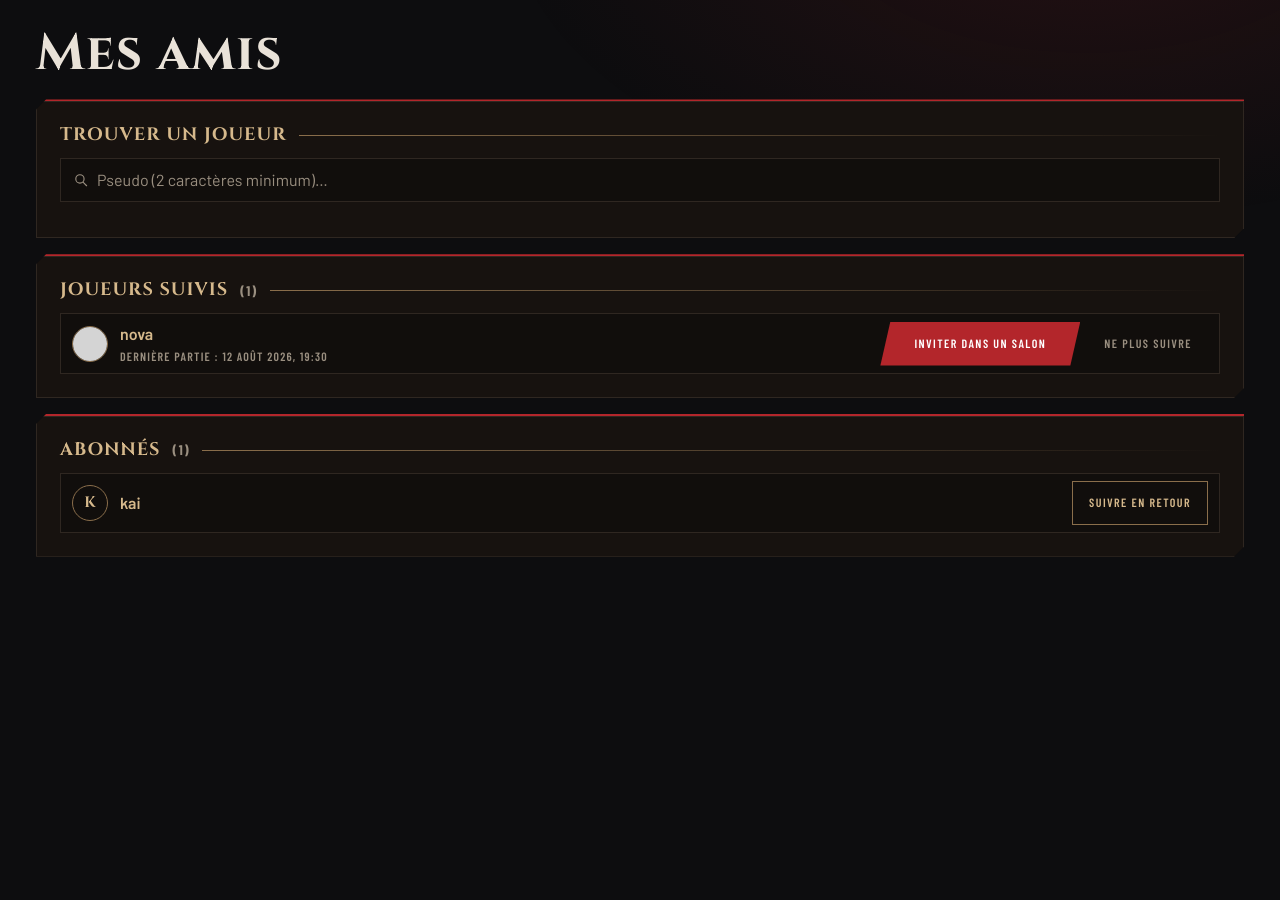
Test: FriendsView › invite un suivi : crée un salon de duel, affiche le code et copie le lien
The image size is (1280, 900).
Click the button "Inviter dans un salon".
click(980, 344)  # box [880, 322, 1080, 366]
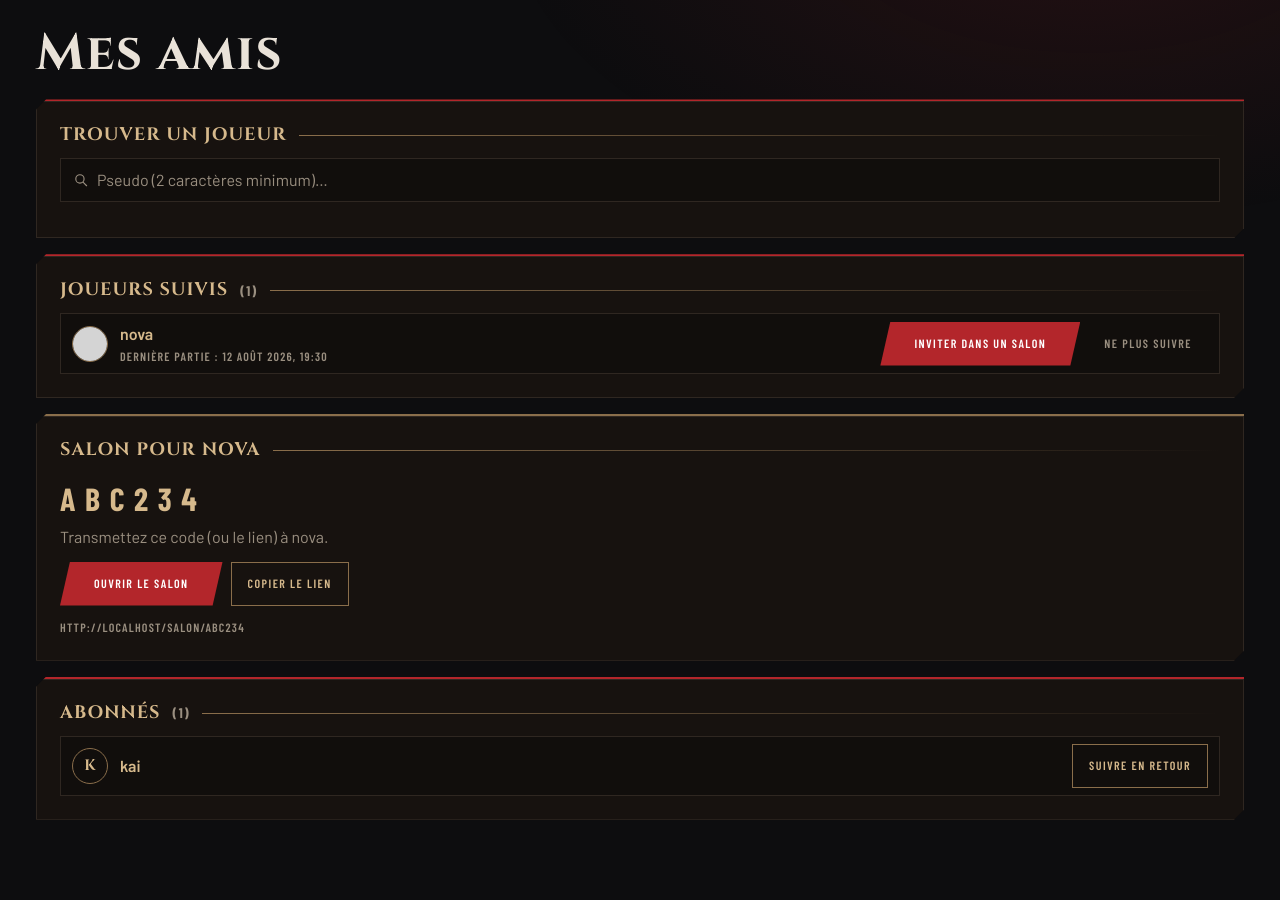
Result: the element with class "amis-invite" shows "Salon pour nova" at [60, 437, 260, 462]
Result: the text with class "amis-invite-code" reads "ABC234" at [60, 479, 206, 517]
Click the button "Copier le lien".
click(290, 584)  # box [231, 562, 349, 606]
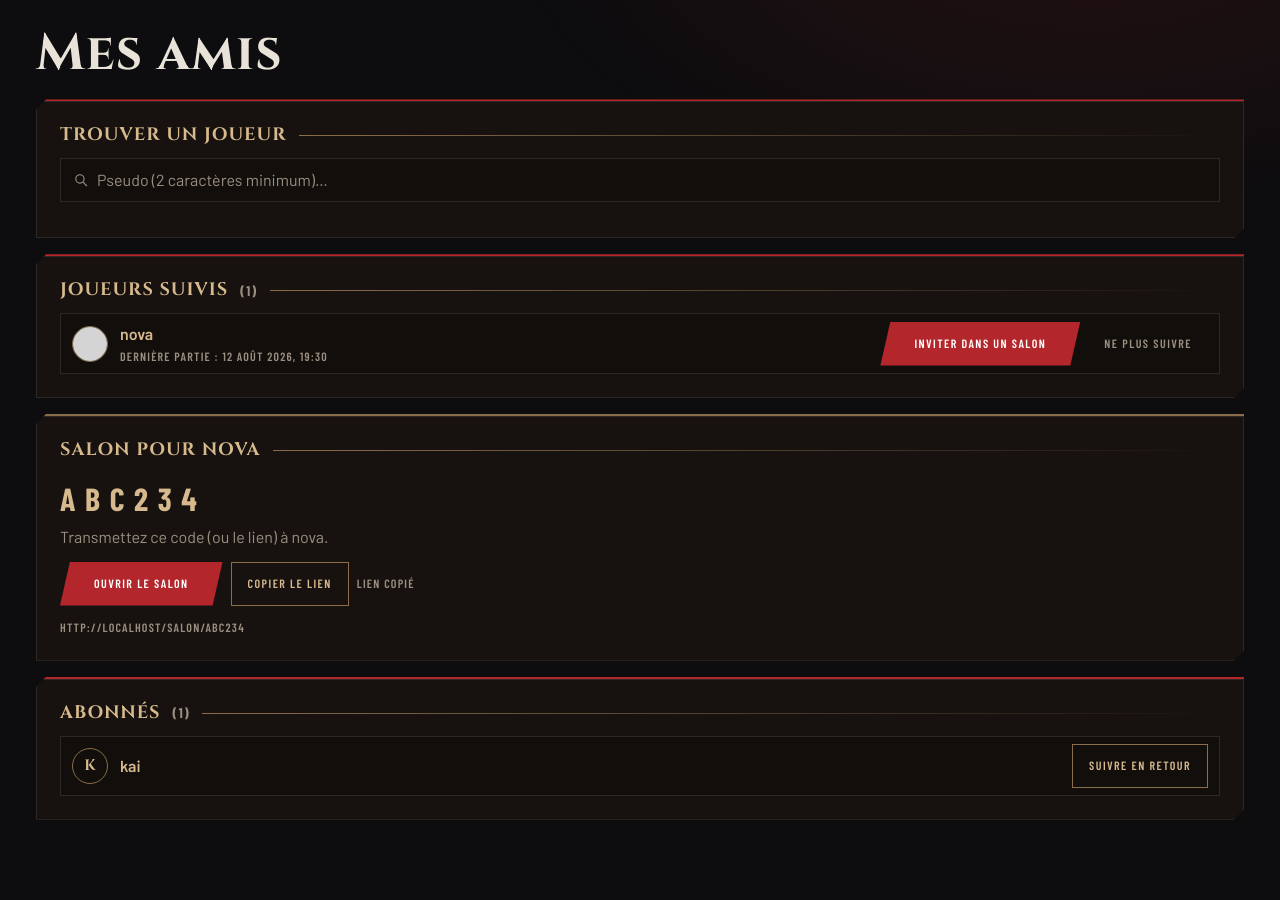
Result: the element with class "amis-invite" shows "Lien copié" at [357, 576, 415, 590]
